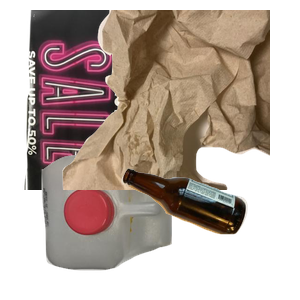glass: (119, 166, 300, 300)
paper: (22, 10, 225, 190)
plastic: (39, 149, 203, 300)
trash: (60, 10, 300, 190)
